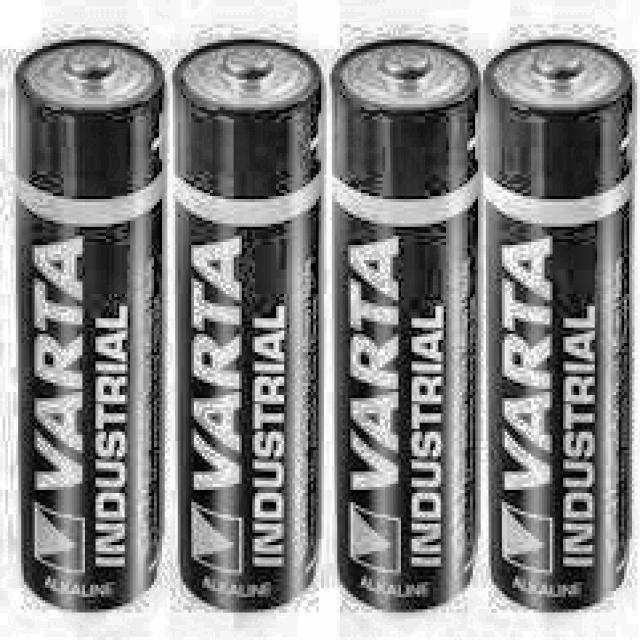Battery: (492, 40, 638, 609), (176, 40, 322, 606), (334, 40, 480, 603), (21, 37, 162, 606)
